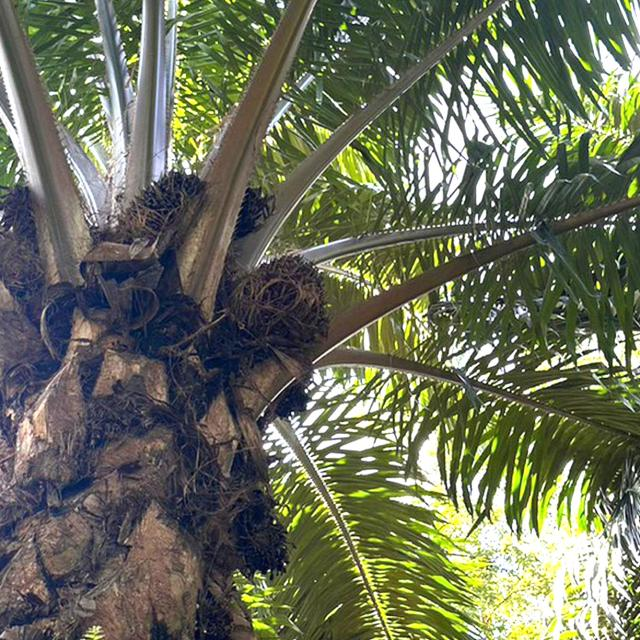ripe: (231, 250, 327, 341), (123, 167, 194, 241)
